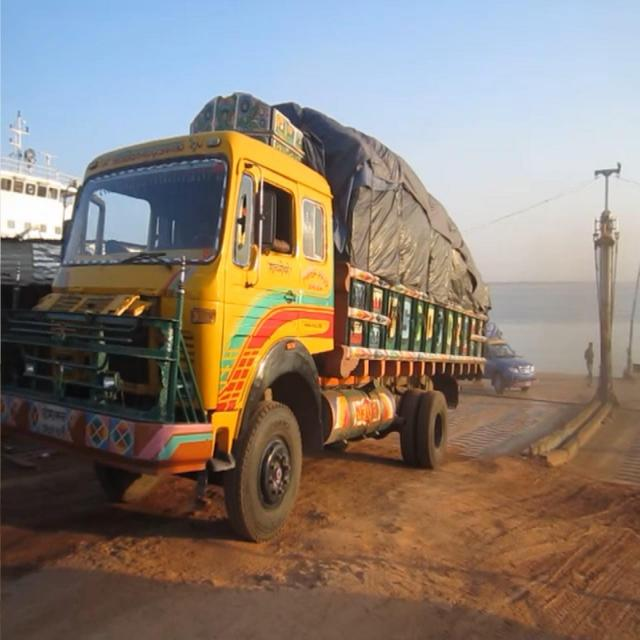car: (488, 326, 543, 399)
truck: (21, 44, 493, 561)
